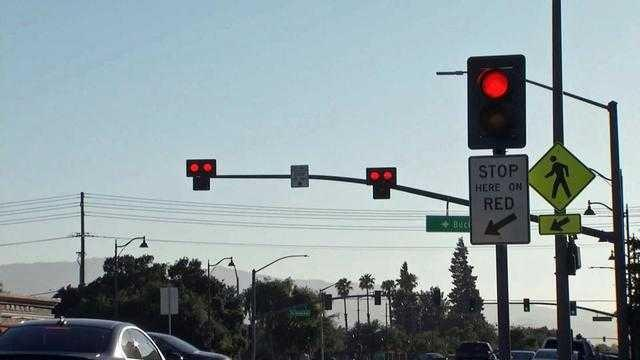red: (476, 62, 519, 147), (477, 64, 516, 102)
